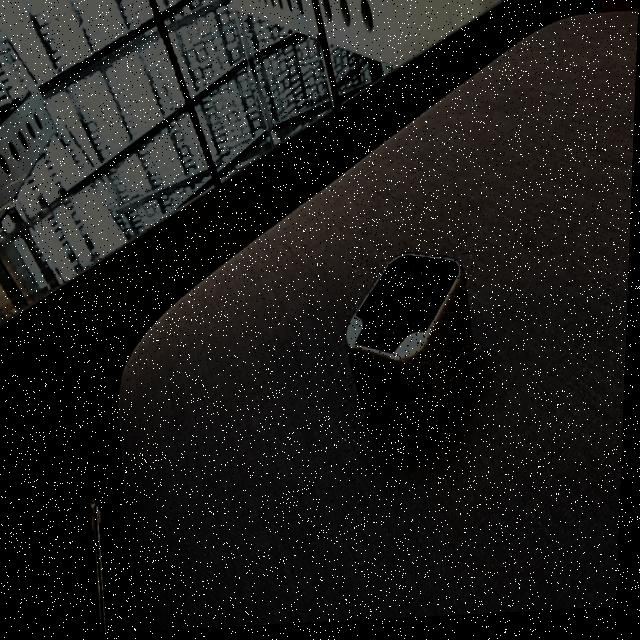adapter: (344, 253, 480, 457)
